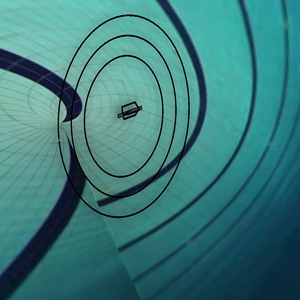circle: (41, 4, 239, 263)
submarine: (110, 93, 148, 132)
